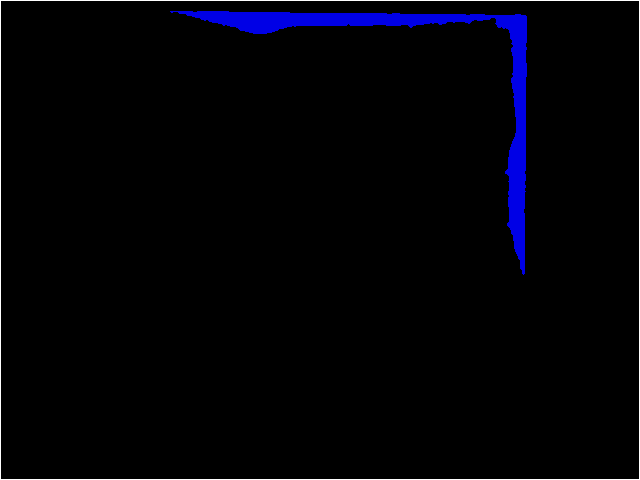defect: (168, 9, 528, 278)
